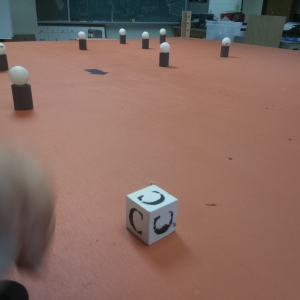blockC: (127, 188, 176, 240)
corner: (181, 11, 190, 38)
obstacle: (9, 66, 35, 113), (158, 43, 169, 66), (139, 30, 150, 49), (220, 37, 229, 58), (77, 32, 87, 50), (119, 28, 124, 44), (160, 29, 166, 40)
start: (85, 66, 106, 74)
